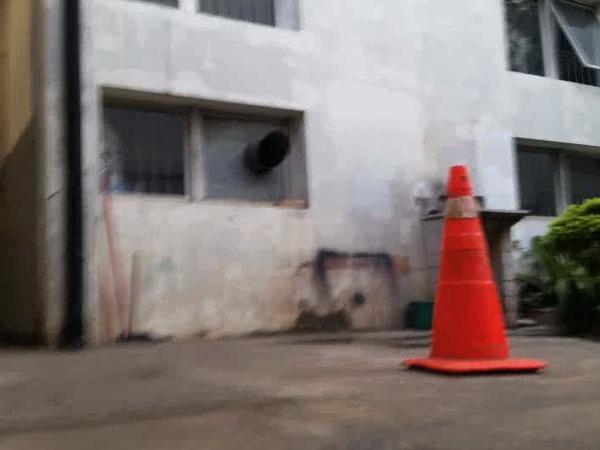0 cone: (401, 165, 546, 375)
